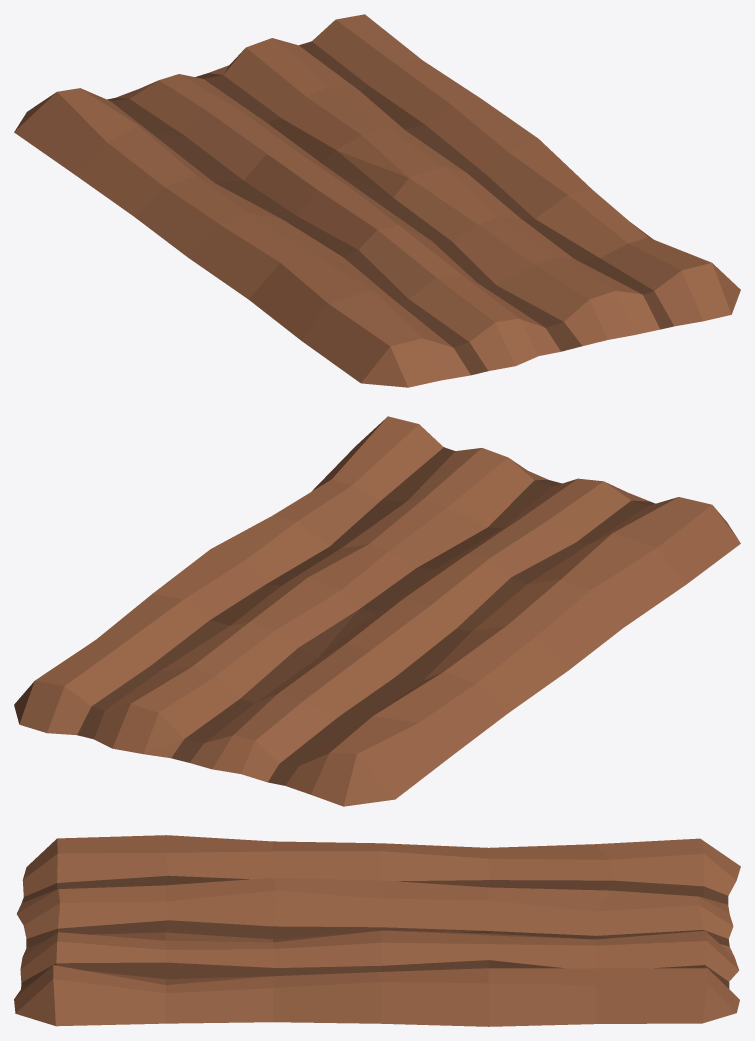
File: Field_S.fbx
The picture shows the model from 3 angles, top to bottom: view 1: azimuth 30°, elevation 25°; view 2: azimuth 150°, elevation 25°; view 3: azimuth 270°, elevation 25°; orthographic projection. The views are drawn at different scales.
Parts seen in each view (by area): view 1: Field_S; view 2: Field_S; view 3: Field_S.
Boxes of the visible parts, x1,y1,x2,y2 form: Field_S: (14,14,740,387); Field_S: (14,416,740,806); Field_S: (14,835,740,1026).
Bounding box in the file's own units: 3.54 × 0.3468 × 6.16.
